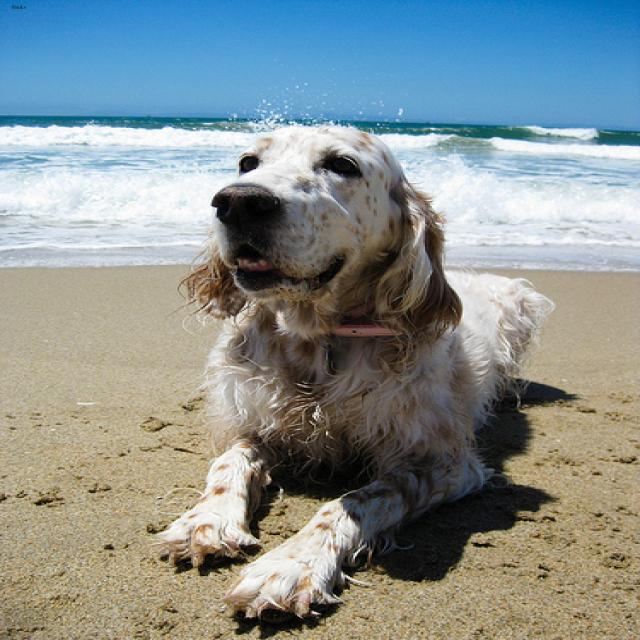dog-english_setter: (143, 105, 560, 631)
